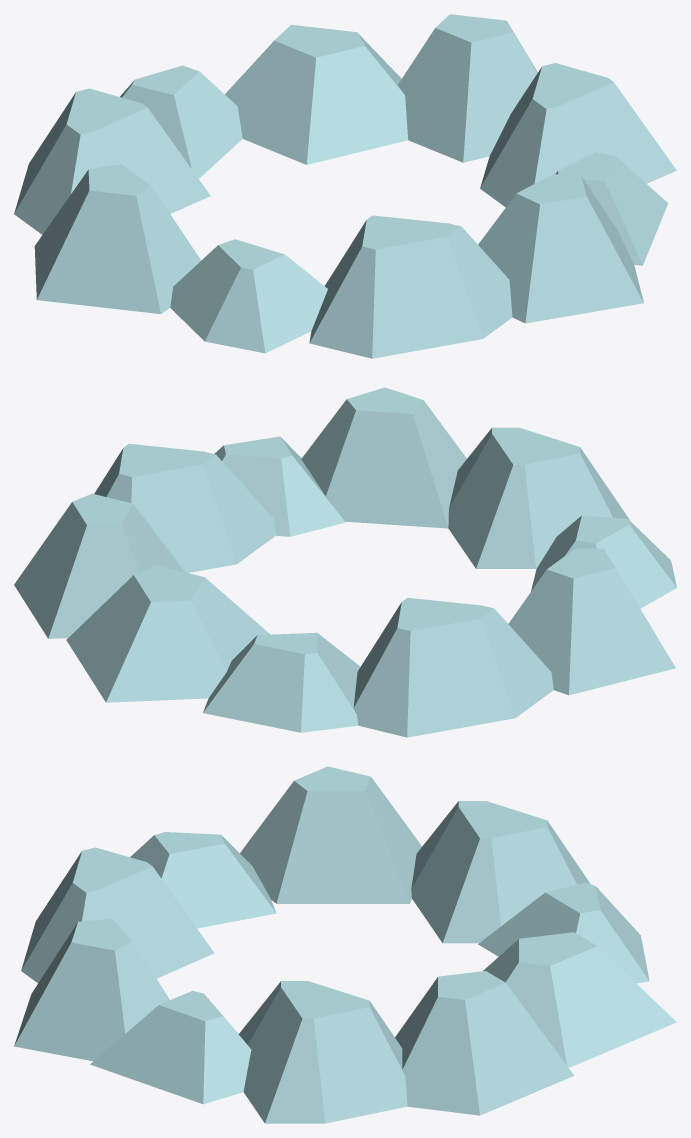
The model's file is campfire_stones.dae.
3 renders of one model, top to bottom at view 1: azimuth 30°, elevation 25°; view 2: azimuth 150°, elevation 25°; view 3: azimuth 270°, elevation 25°, orthographic. The views are drawn at different scales.
Parts seen in each view (by area): view 1: campfire_stones; view 2: campfire_stones; view 3: campfire_stones.
Boxes of the visible parts, x1,y1,x2,y2 form: campfire_stones: (14,14,676,358); campfire_stones: (14,387,676,737); campfire_stones: (14,766,676,1123).
Bounding box in the file's own units: 0.5408 × 0.0778 × 0.5155.
